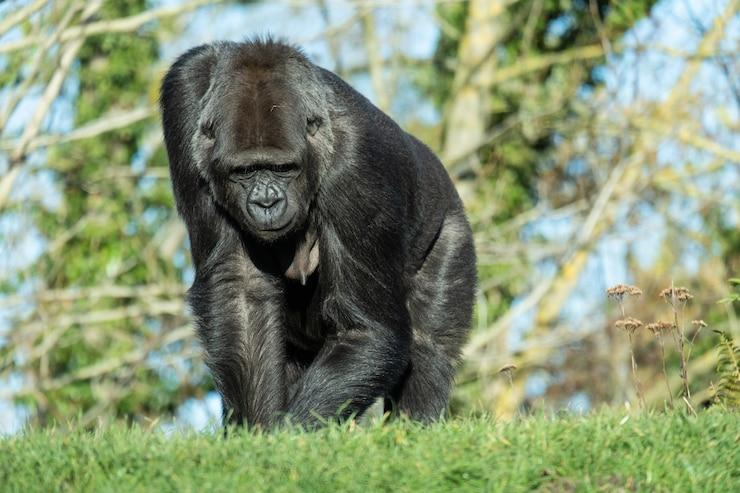gorille_Autres: (131, 9, 500, 432)
